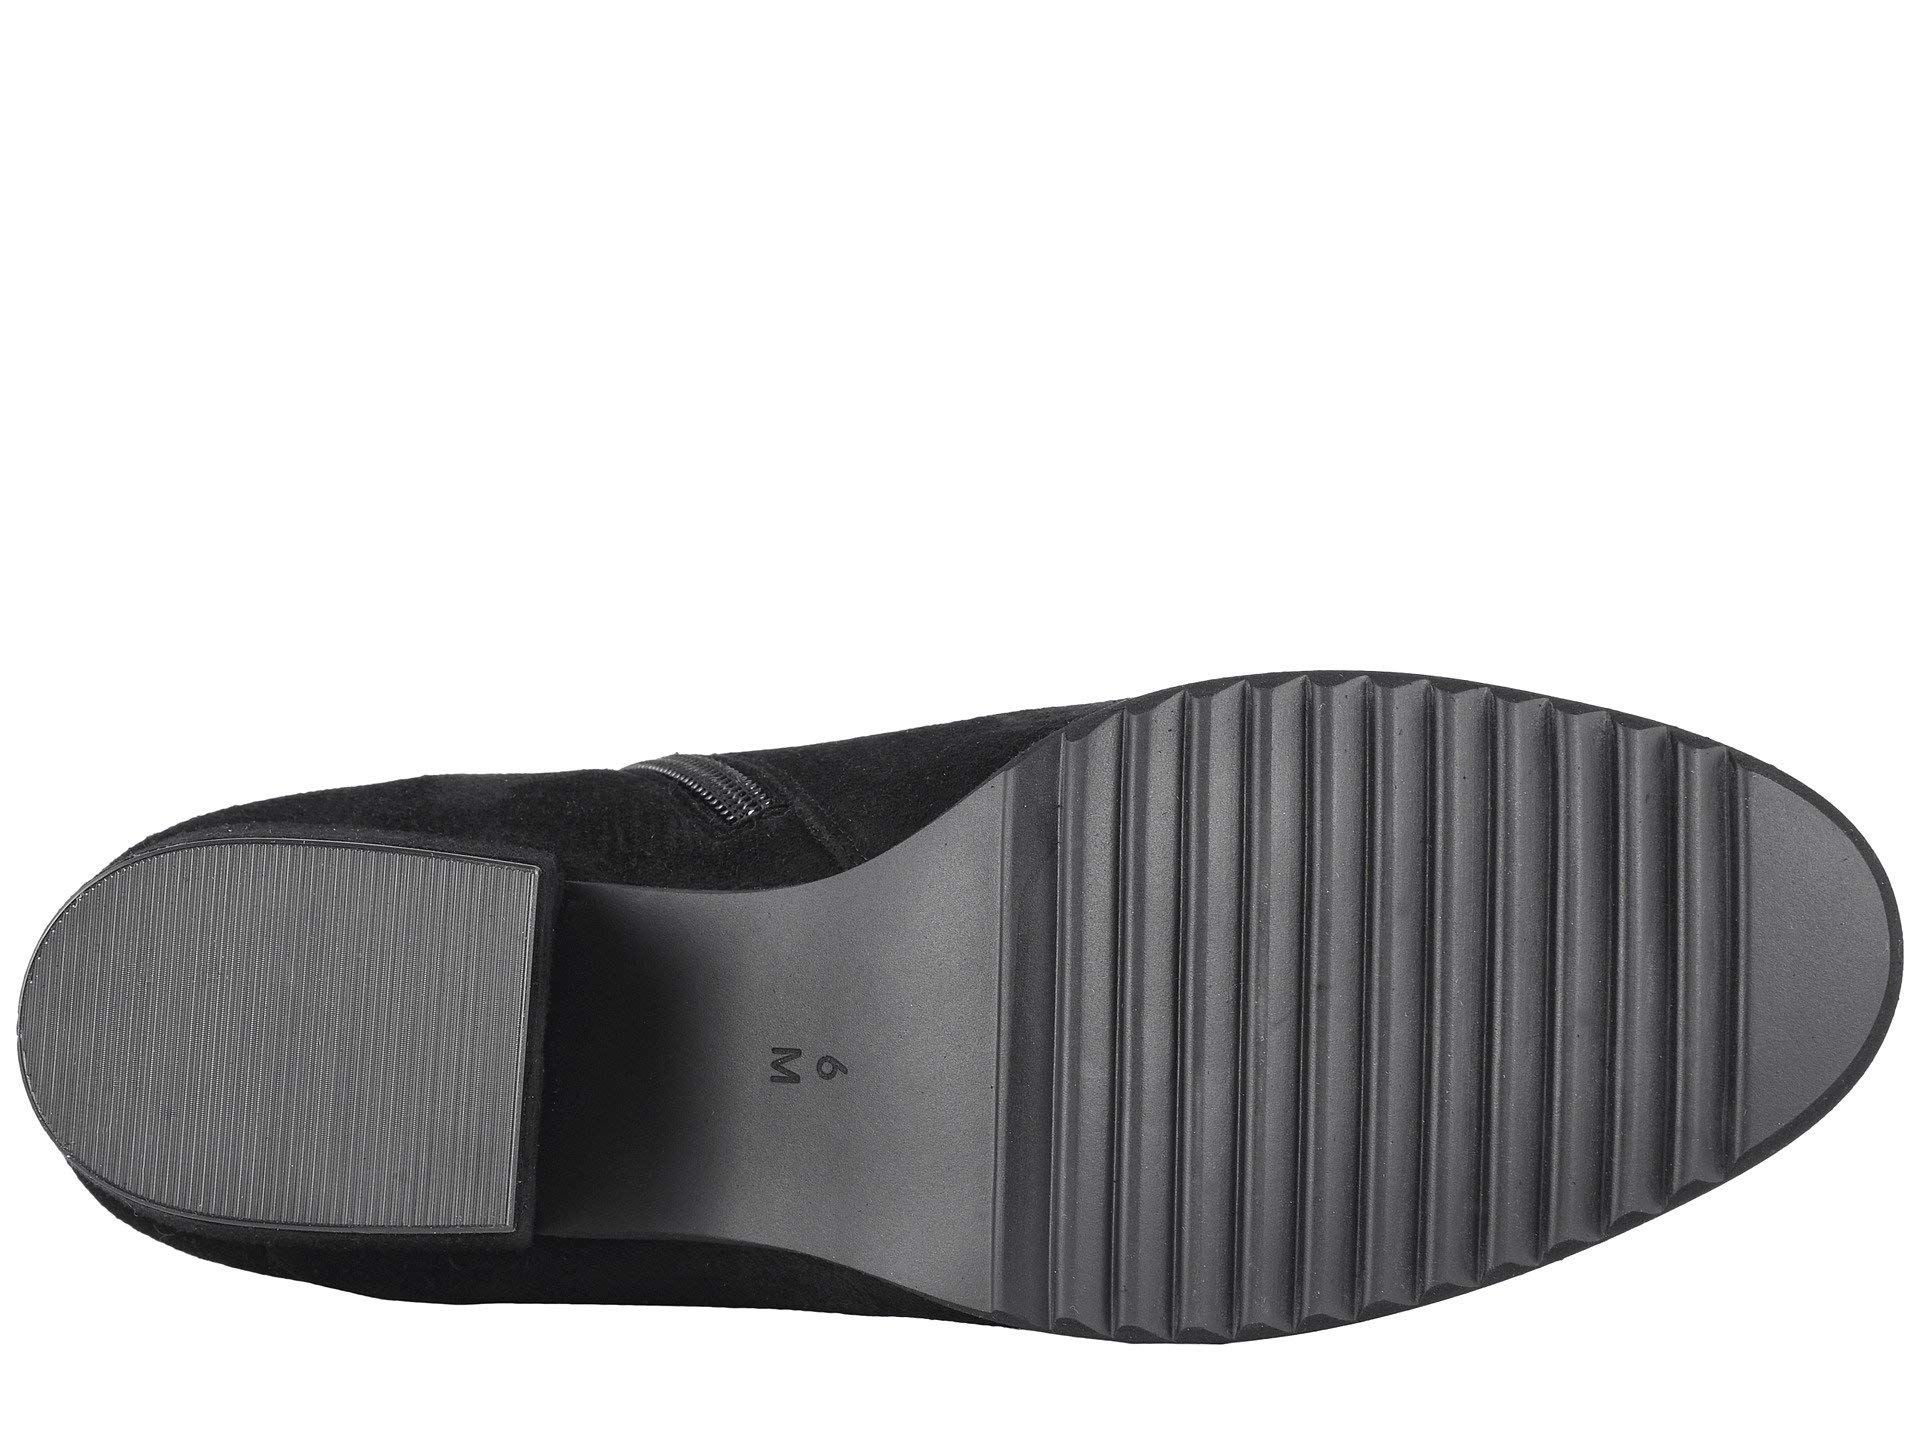line: (1116, 687, 1692, 1243), (103, 879, 451, 1192)
quad: (1116, 687, 1692, 1243)
text: (671, 971, 903, 1148)
